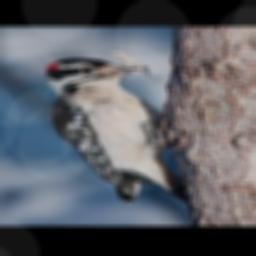Woodpecker: (44, 58, 184, 203)
